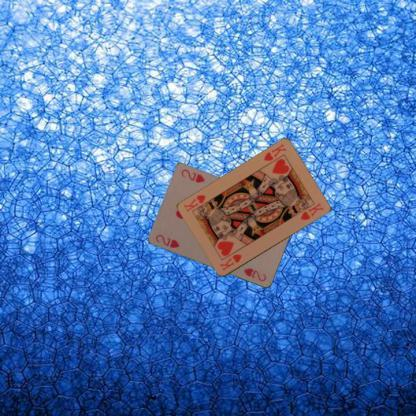2h: (153, 232, 181, 250)
Kh: (261, 141, 288, 162), (216, 252, 244, 272)
